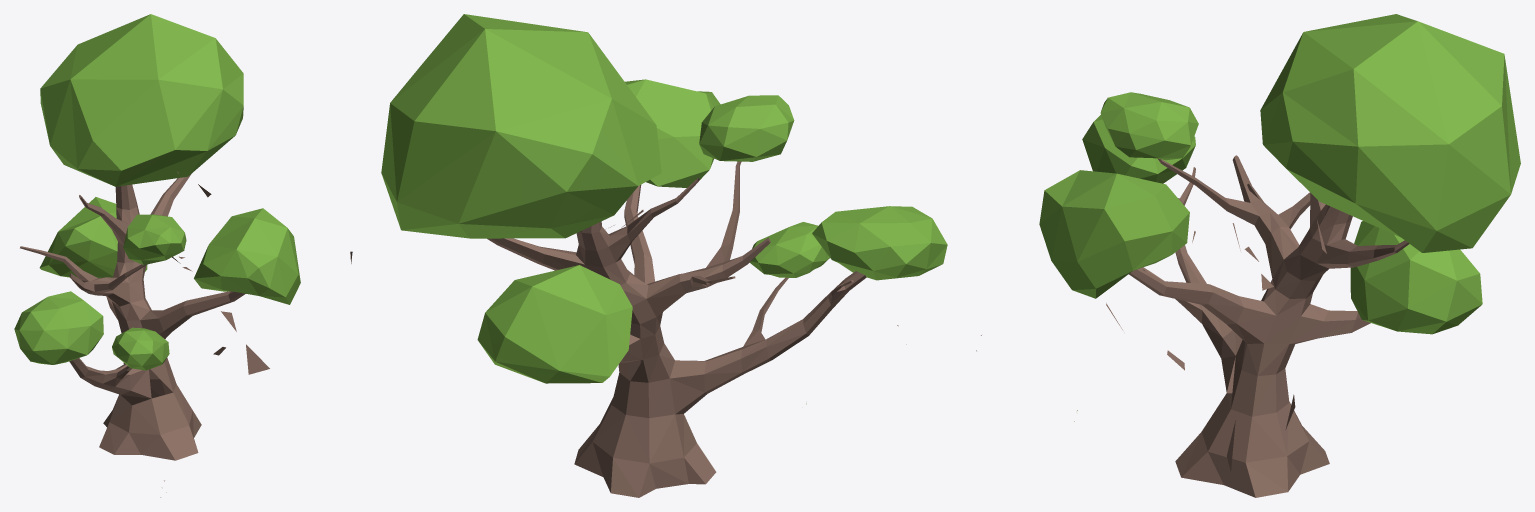
The model's file is Pohon.glb.
3 renders of one model, left to right at view 1: azimuth 30°, elevation 25°; view 2: azimuth 150°, elevation 25°; view 3: azimuth 270°, elevation 25°, orthographic. The views are drawn at different scales.
Parts seen in each view (by area): view 1: rock02_Mesh_007_Base_0.458; view 2: rock02_Mesh_007_Base_0.458; view 3: rock02_Mesh_007_Base_0.458.
Part boxes in pixels (x1=…): rock02_Mesh_007_Base_0.458: x1=14, y1=14, x2=300, y2=460; rock02_Mesh_007_Base_0.458: x1=381, y1=14, x2=947, y2=497; rock02_Mesh_007_Base_0.458: x1=1039, y1=14, x2=1520, y2=497.
Size of the model in its own units: 7.49 by 7.97 by 8.15.
Materials: 1 (1 with a texture image).
